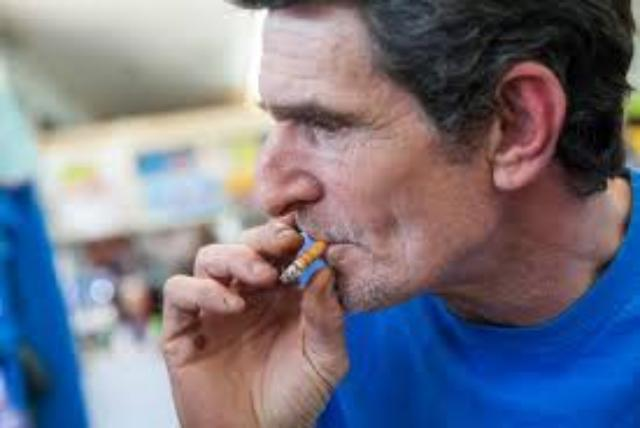Smoking: (280, 242, 326, 284)
